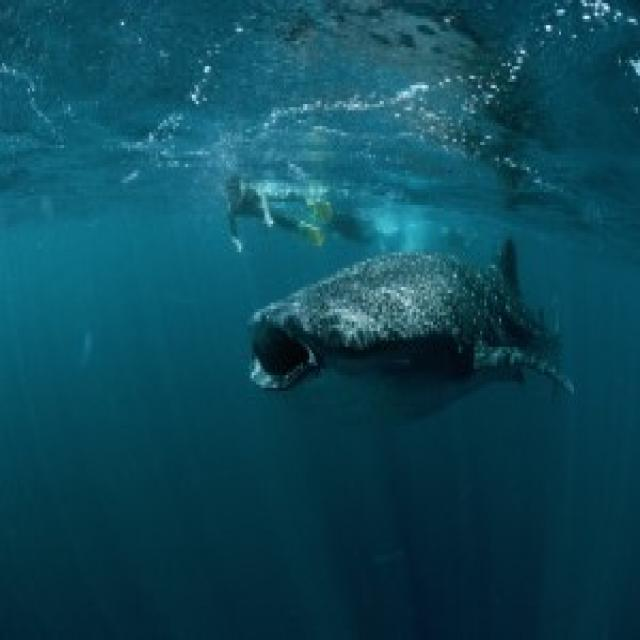Shark: (242, 238, 585, 431)
